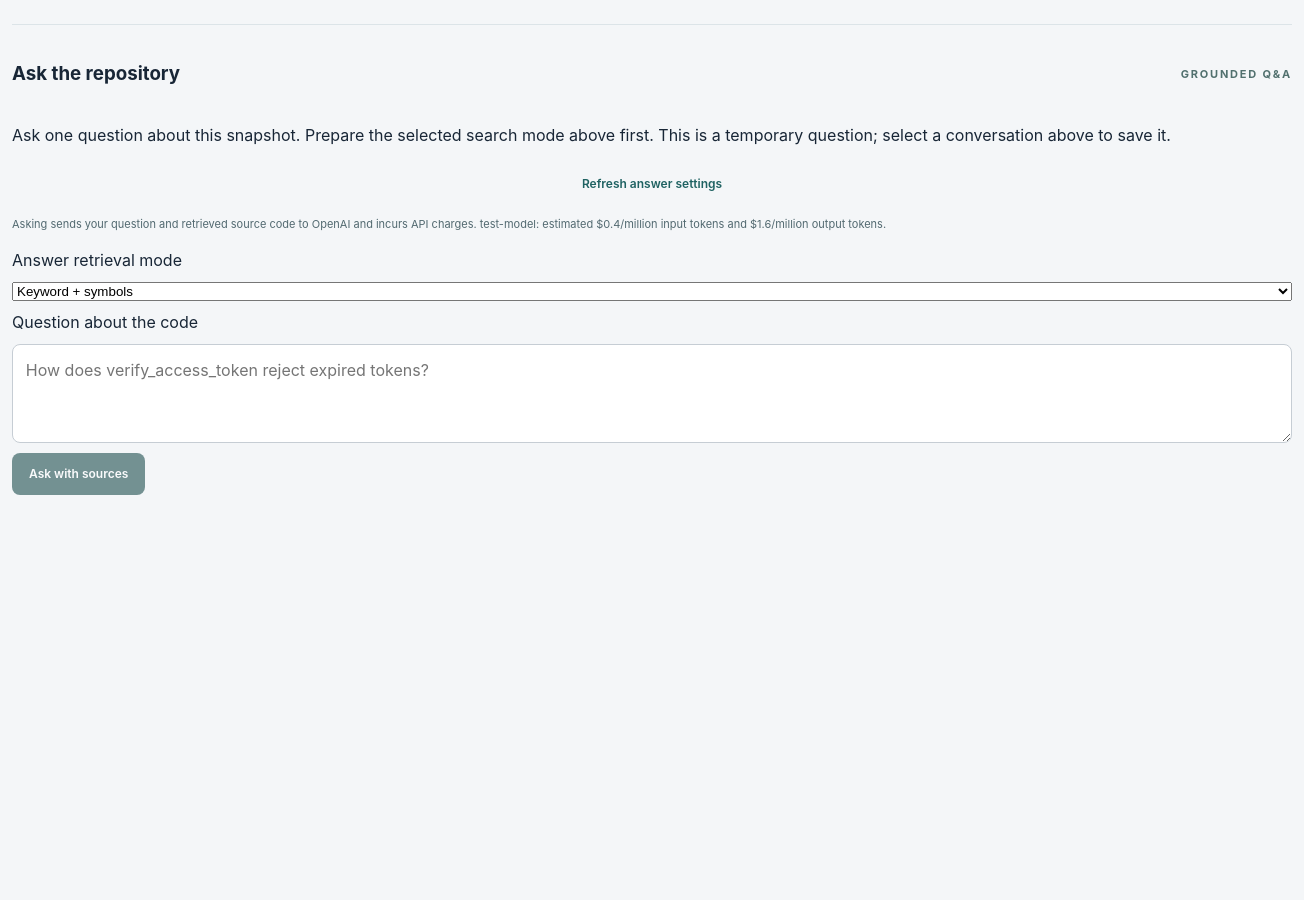
Test: grounded answer panel › submits CSRF and renders working source anchors without executing HTML
Expected: the text "test-model: estimated" is shown, [12, 216, 886, 230]
Type "What does hello do?" into the text box labelled "Question about the code" at (652, 394), box [12, 344, 1292, 443]
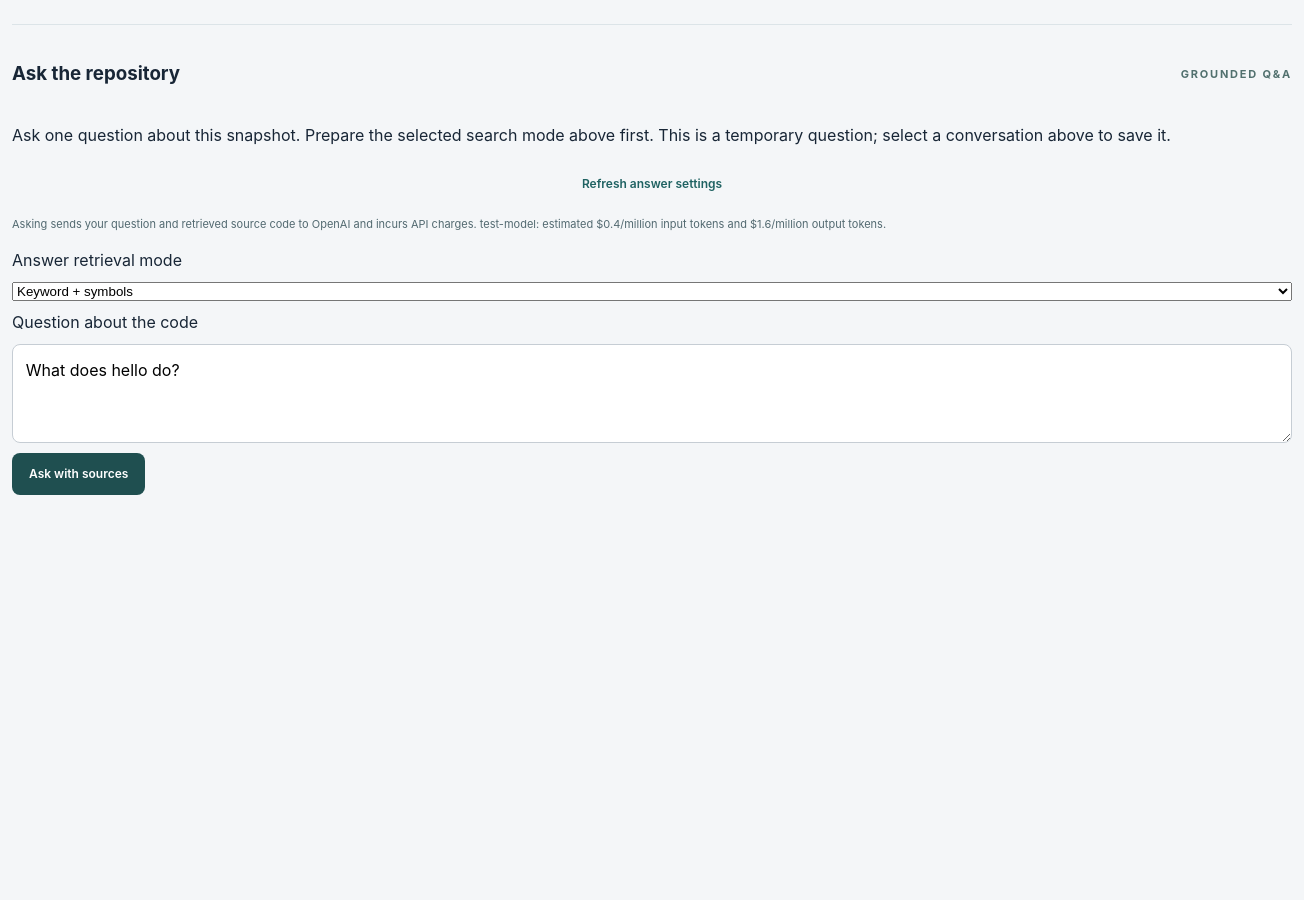
Click the button "Ask with sources" at (79, 474), box [12, 453, 145, 495]
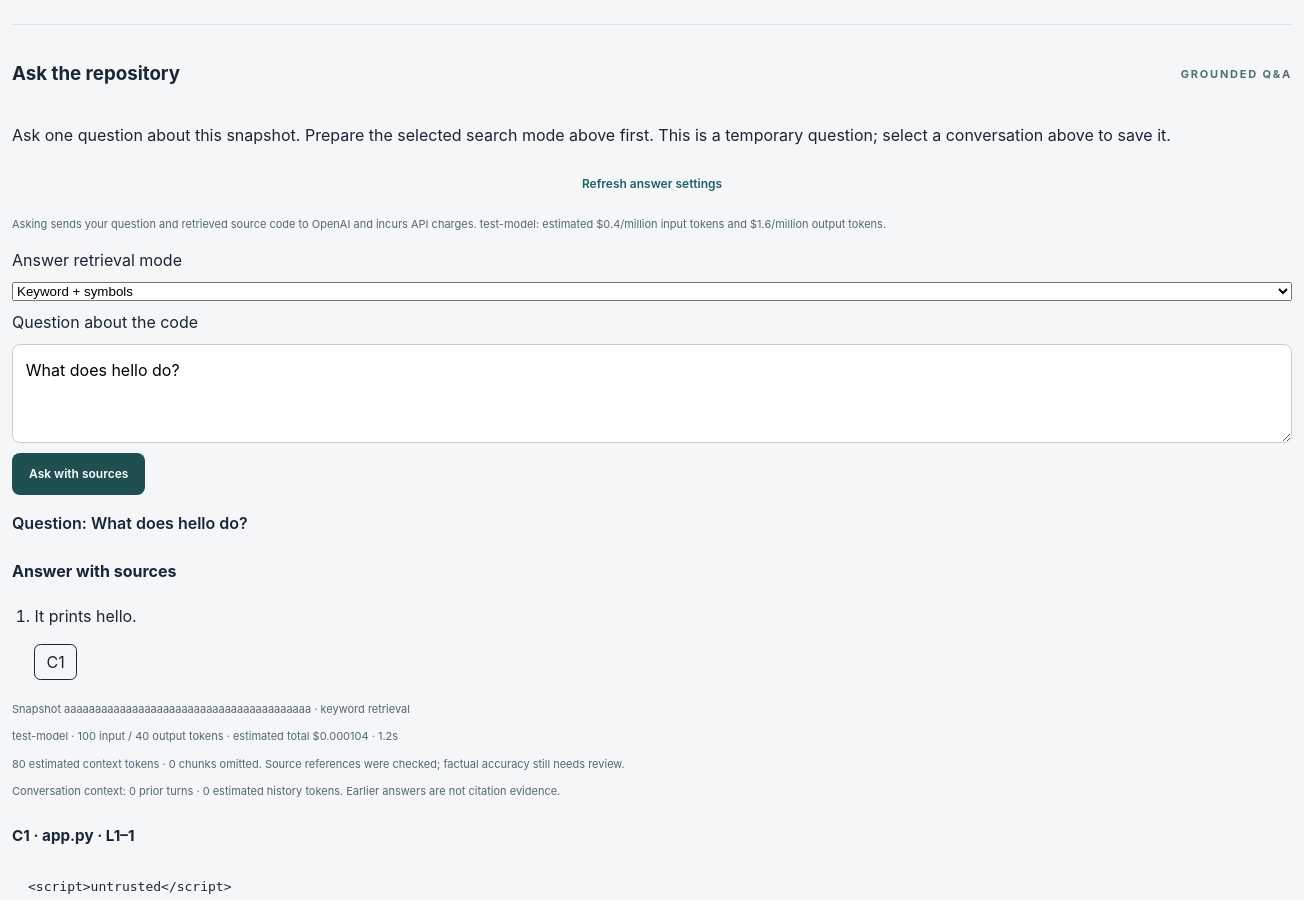
Expected: the text "It prints hello." is shown, [34, 606, 137, 626]
Expected: the text "Question: What does hello do?" is shown, [12, 513, 248, 533]
